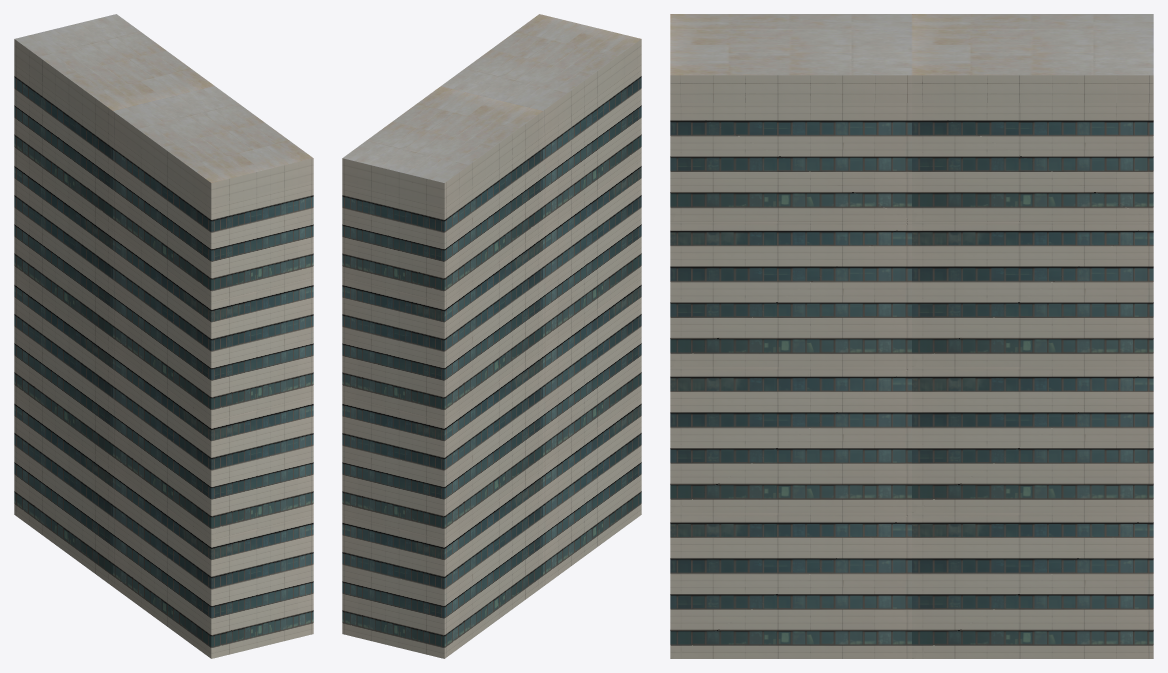
File: house11.FBX
3 views of the same model, side by side, from view 1: azimuth 30°, elevation 25°; view 2: azimuth 150°, elevation 25°; view 3: azimuth 270°, elevation 25° (orthographic). The views are drawn at different scales.
Parts seen in each view (by area): view 1: Box002; view 2: Box002; view 3: Box002.
Boxes of the visible parts, left/top/right/bottom form: Box002: left=14, top=14, right=313, bottom=658; Box002: left=342, top=14, right=641, bottom=658; Box002: left=670, top=14, right=1153, bottom=658.
Size of the model in its own units: 71.8 by 319 by 240.
